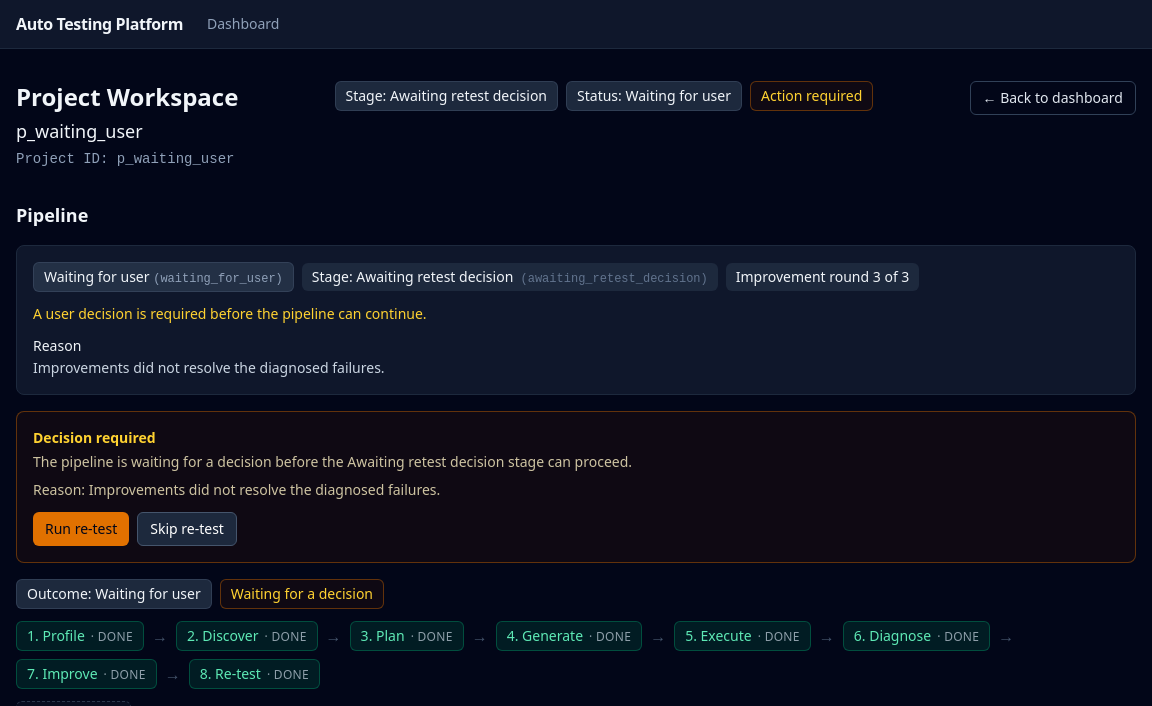
Test: Project workspace — decision gates › advances past the retest gate after acting
Click the button "Run re-test".
click(81, 529)  # box left=33, top=512, right=129, bottom=546
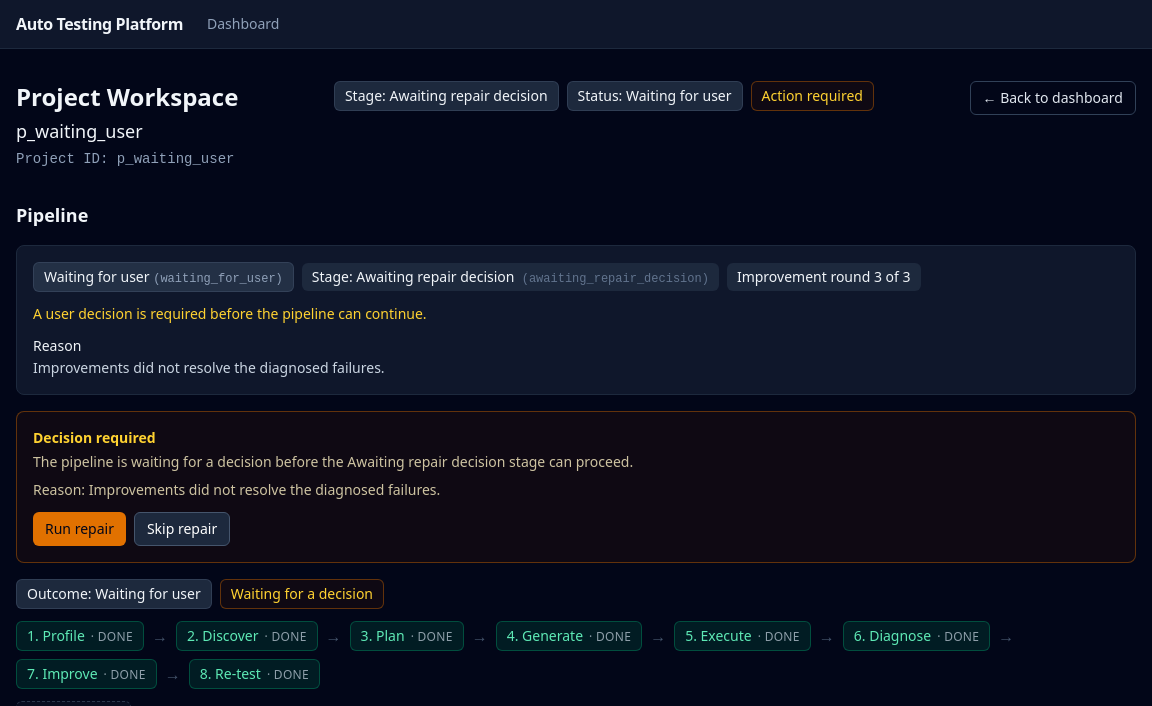
Result: the button "Run repair" is shown at left=33, top=512, right=126, bottom=546
Result: the button "Run re-test" is gone
